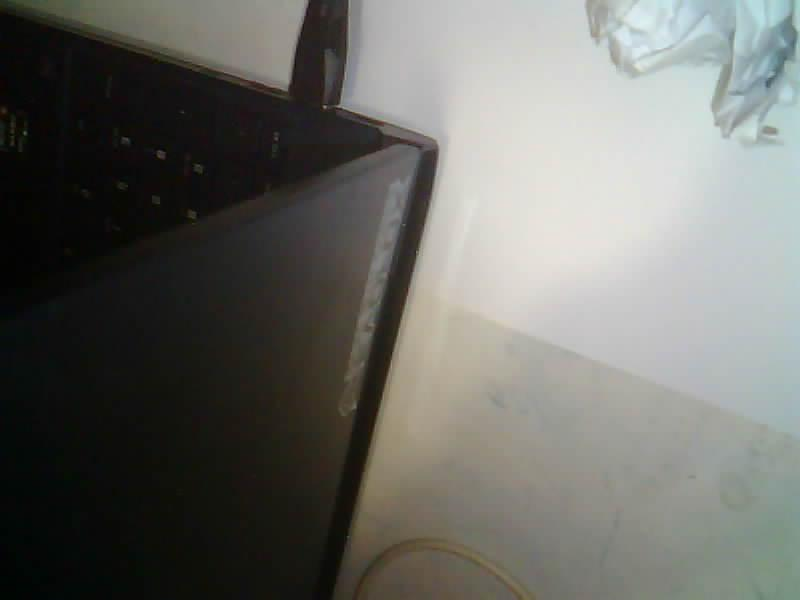biodegradable: (585, 0, 799, 143)
